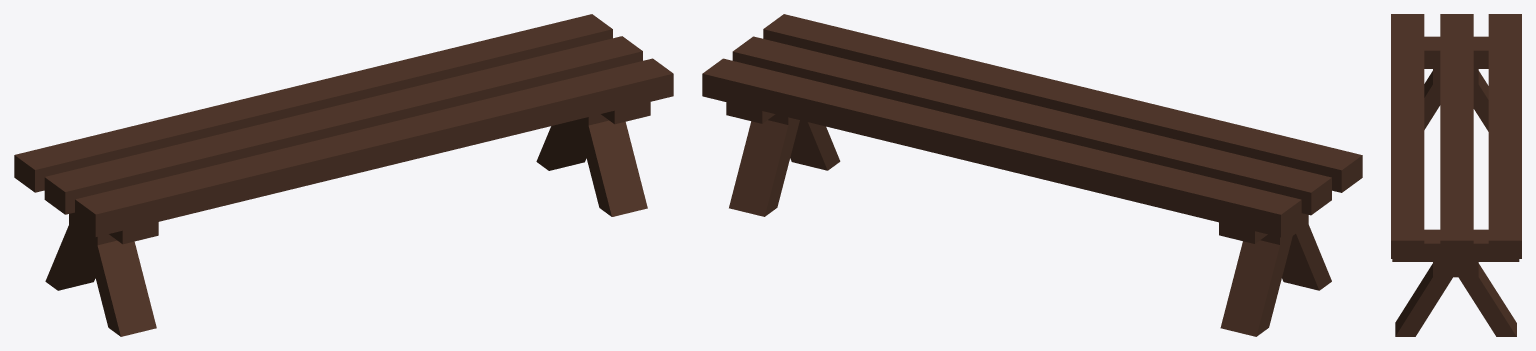
File: bench1.fbx
3 views of the same model, side by side, from view 1: azimuth 30°, elevation 25°; view 2: azimuth 150°, elevation 25°; view 3: azimuth 270°, elevation 25° (orthographic). The views are drawn at different scales.
Parts seen in each view (by area): view 1: Bench; view 2: Bench; view 3: Bench.
Part boxes in pixels (box(x1,y1,x2,y2)): Bench: box(14, 14, 673, 336); Bench: box(702, 14, 1362, 336); Bench: box(1391, 14, 1521, 336).
Bounding box in the file's own units: 3.63 × 0.7879 × 0.8871.
